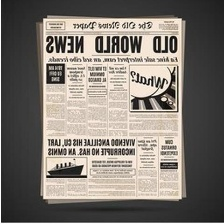news_paper: (37, 12, 187, 204)
